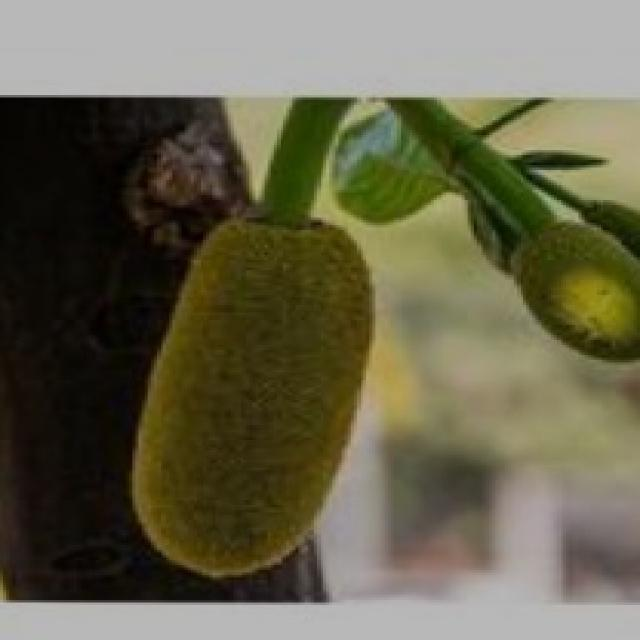Fruit: (89, 185, 437, 595)
